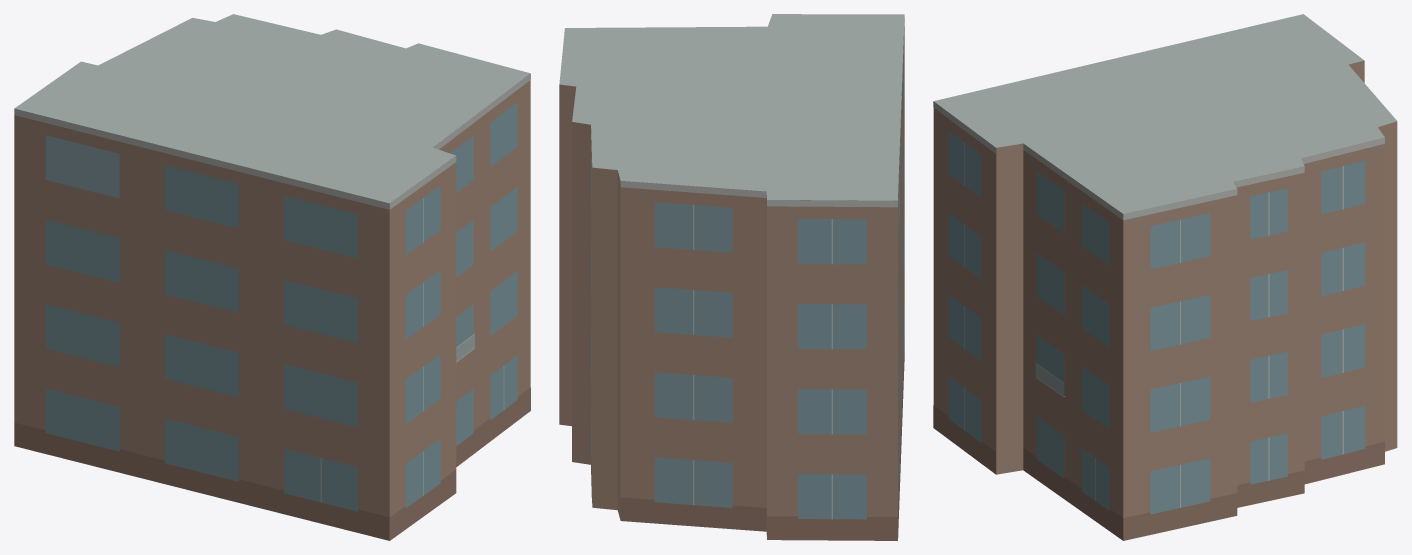
File: survey-upis-32666217.glb
3 views of the same model, side by side, from view 1: azimuth 30°, elevation 25°; view 2: azimuth 150°, elevation 25°; view 3: azimuth 270°, elevation 25° (orthographic). The views are drawn at different scales.
Visible parts, largest first — view 1: survey-upis-32666217.tmp; view 2: survey-upis-32666217.tmp; view 3: survey-upis-32666217.tmp.
Part boxes in pixels (bbox=[...]): survey-upis-32666217.tmp: bbox=[14, 14, 530, 540]; survey-upis-32666217.tmp: bbox=[559, 14, 904, 540]; survey-upis-32666217.tmp: bbox=[933, 14, 1397, 540].
Size of the model in its own units: 16.68 by 12.7 by 16.35.
